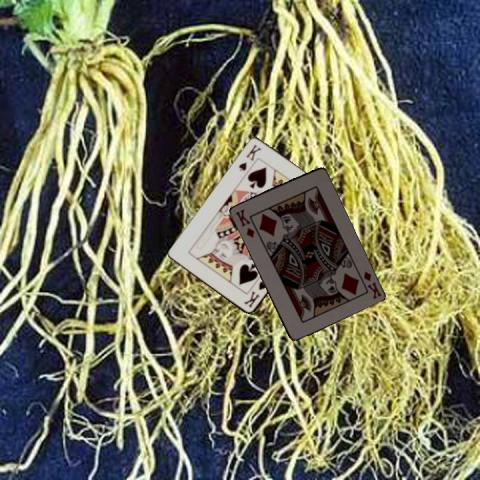Kd: (354, 267, 382, 300), (232, 206, 255, 239)
Ks: (235, 142, 263, 173), (241, 278, 268, 309)
